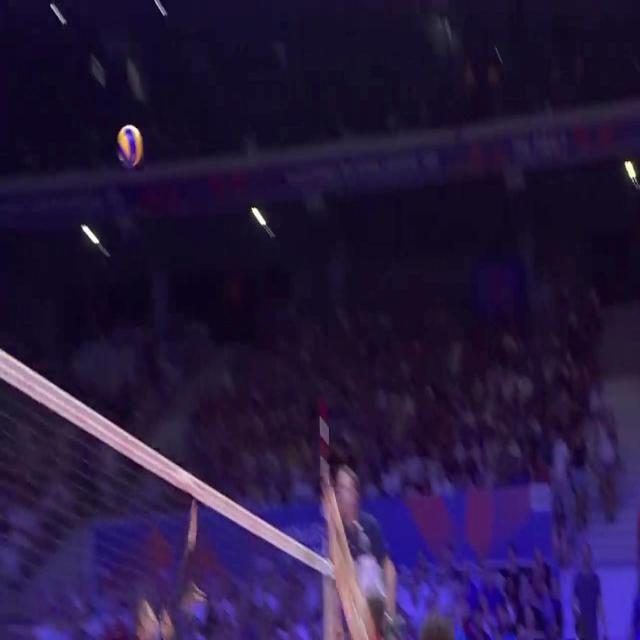volleyball: (116, 124, 143, 168)
